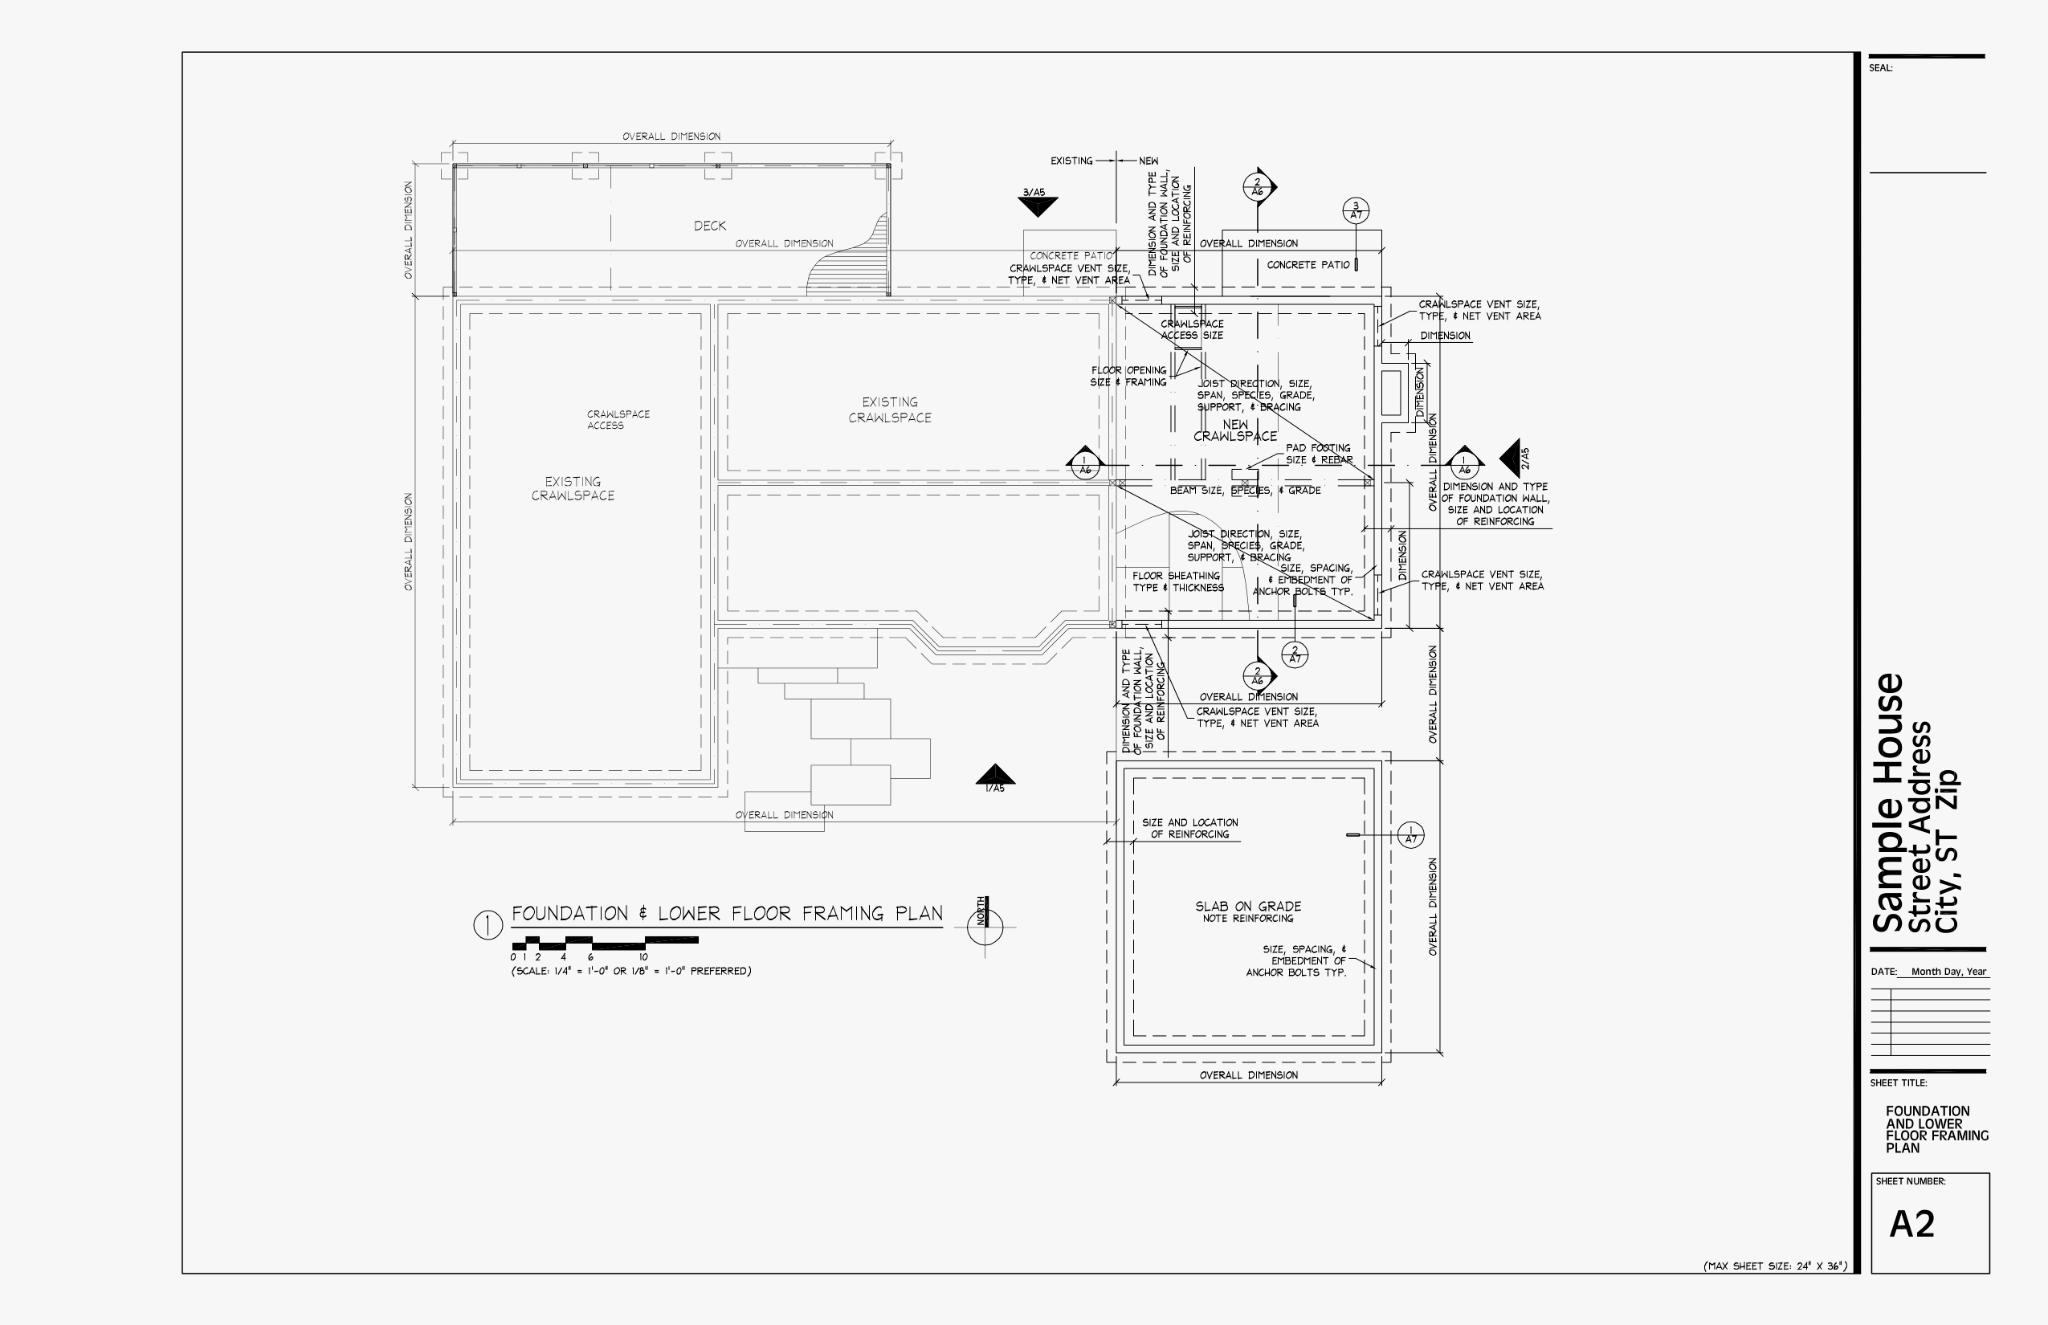detail: (1340, 194, 1375, 273), (1281, 591, 1314, 673), (1345, 819, 1427, 851)
elevation: (1242, 160, 1282, 236), (1417, 443, 1490, 482), (1063, 443, 1134, 480), (1242, 627, 1278, 700)
title: (470, 895, 946, 979)
